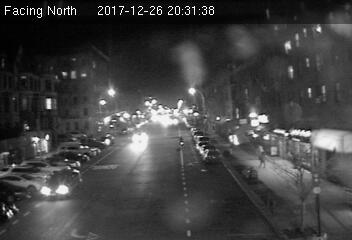car: (39, 169, 83, 197), (202, 148, 222, 166), (129, 130, 150, 142)
